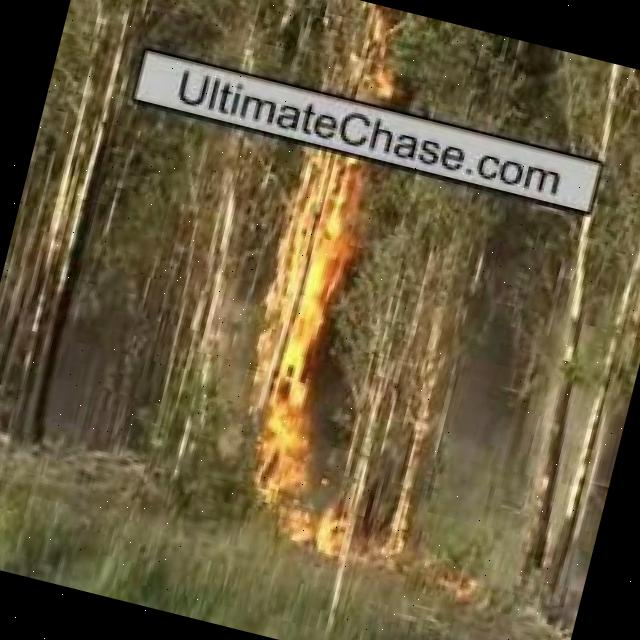fire: (242, 152, 368, 430), (232, 437, 382, 577), (349, 11, 409, 106)
